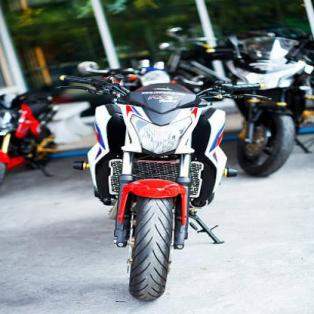Motocicleta: (53, 62, 236, 306)
